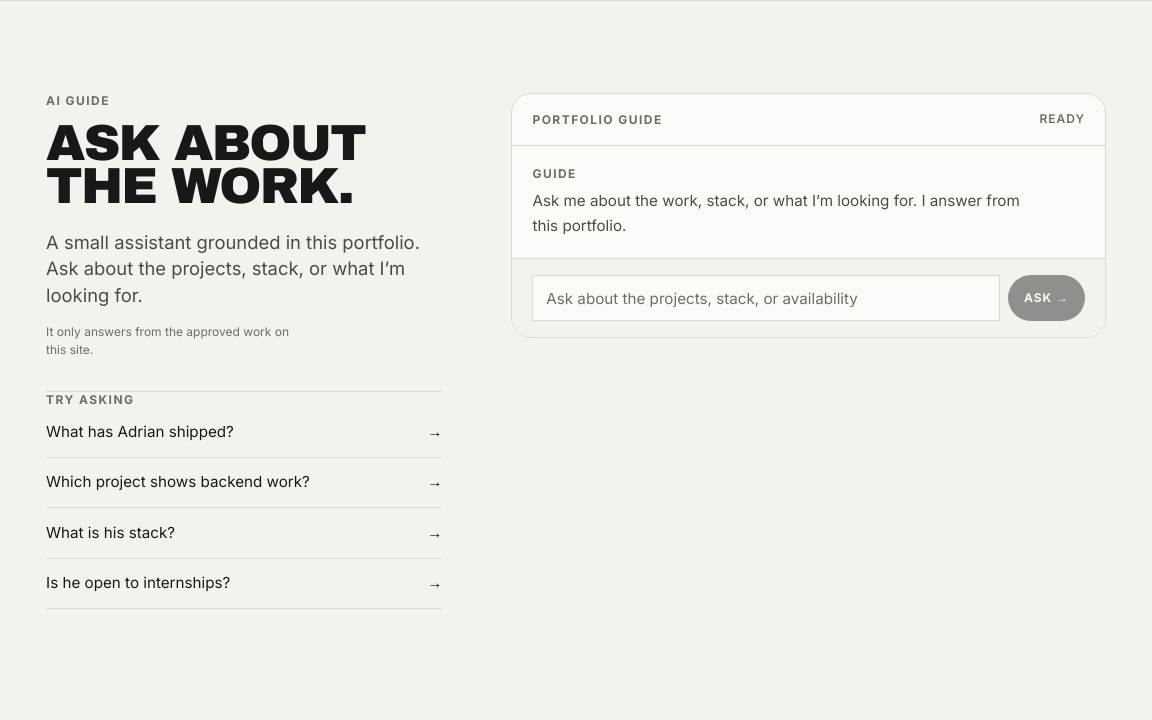
Test: AiGuide › shows a helpful error when the guide is unavailable
Click the button "Which project shows backend work? →": (244, 483) [46,458,442,508]
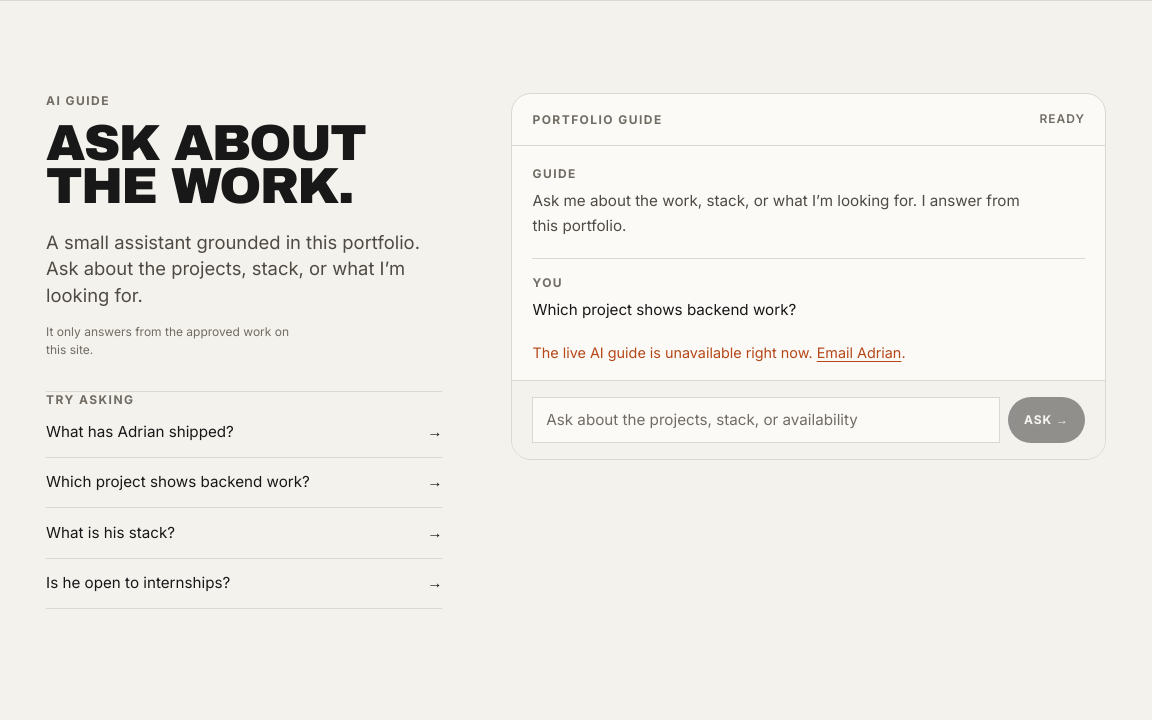
Expected: the message shows "The live AI guide is unavailable right now", [532,344,813,361]
